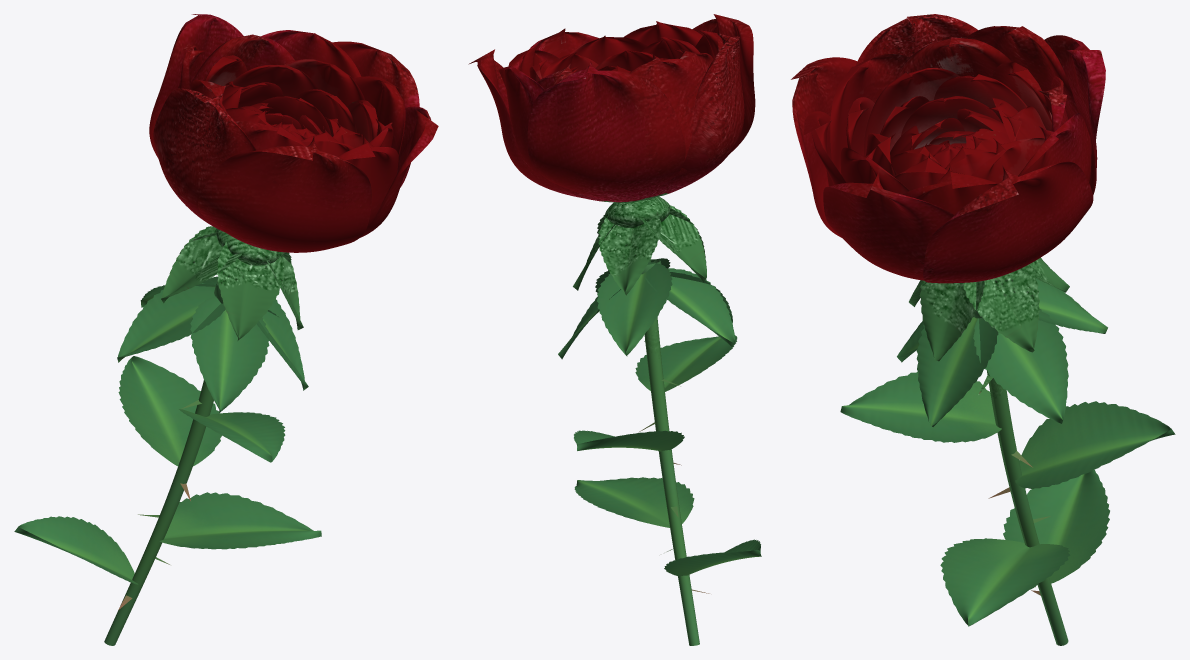
The model's file is rosa2.glb.
The picture shows the model from 3 angles, left to right: view 1: azimuth 30°, elevation 25°; view 2: azimuth 150°, elevation 25°; view 3: azimuth 270°, elevation 25°; orthographic projection. The views are drawn at different scales.
Parts seen in each view (by area): view 1: node_id5, node_id8, node_id11; view 2: node_id5, node_id8, node_id11; view 3: node_id5, node_id8, node_id11.
Boxes of the visible parts, <box> form: node_id5: <box>149,14,438,340</box>; node_id8: <box>14,276,321,584</box>; node_id11: <box>104,281,223,645</box>; node_id5: <box>468,14,755,295</box>; node_id8: <box>558,258,761,576</box>; node_id11: <box>638,259,709,645</box>; node_id5: <box>791,14,1105,361</box>; node_id8: <box>840,278,1175,626</box>; node_id11: <box>974,310,1068,645</box>.
Size of the model in its own units: 0.3127 by 0.511 by 0.274.
3 materials, 3 textured.
